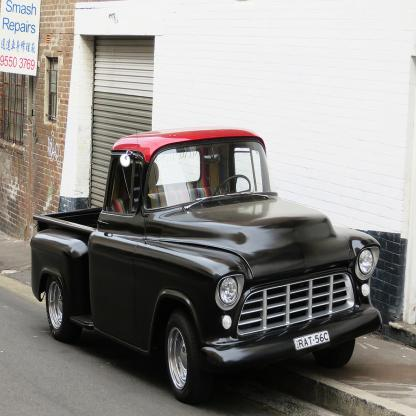Truck: (30, 127, 383, 404)
